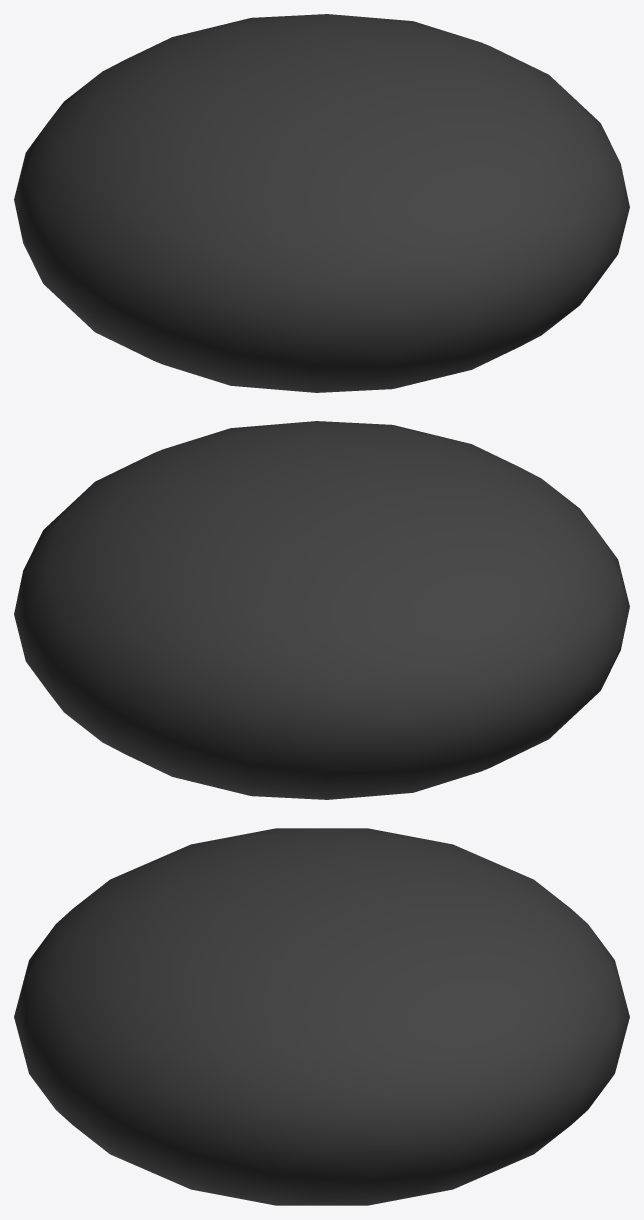
Rendered from Skittles.glb.
3 renders of one model, top to bottom at view 1: azimuth 30°, elevation 25°; view 2: azimuth 150°, elevation 25°; view 3: azimuth 270°, elevation 25°, orthographic.
Parts seen in each view (by area): view 1: geometry_0; view 2: geometry_0; view 3: geometry_0.
Part boxes in pixels (bbox=[...]): geometry_0: bbox=[14, 14, 629, 392]; geometry_0: bbox=[14, 421, 629, 799]; geometry_0: bbox=[14, 828, 629, 1205].
Bounding box in the file's own units: 1.28 × 0.6418 × 1.28.
1 material, 1 textured.
